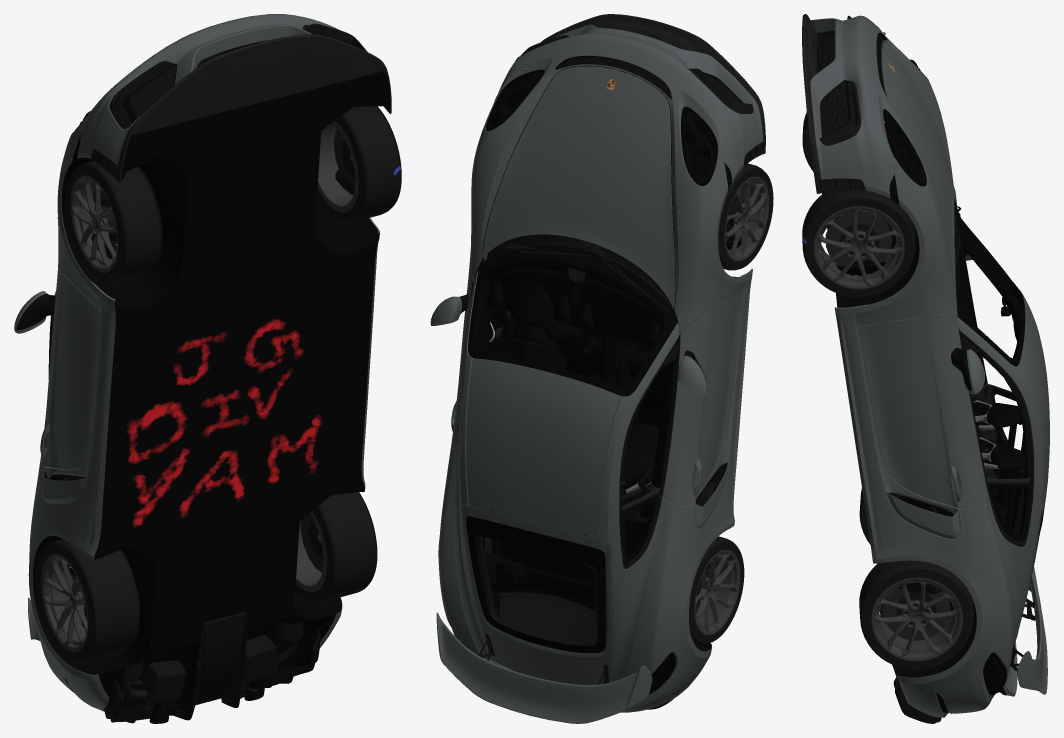
The picture shows the model from 3 angles, left to right: view 1: azimuth 30°, elevation 25°; view 2: azimuth 150°, elevation 25°; view 3: azimuth 270°, elevation 25°; orthographic projection. The views are drawn at different scales.
Visible parts, largest first — view 1: node_id13, node_id64, node_id21, node_id819, node_id1199, node_id3143, node_id303, node_id25, node_id523, node_id1495, node_id2175, node_id1843 (+2 smaller); view 2: node_id64, node_id21, node_id68, node_id41, node_id819, node_id3143, node_id1199, node_id2471, node_id25, node_id13, node_id2815; view 3: node_id64, node_id21, node_id68, node_id139, node_id2171, node_id519, node_id41, node_id13, node_id25, node_id91, node_id1491, node_id1499 (+2 smaller).
Boxes of the visible parts, <box> form: node_id13: <box>32,70,390,716</box>; node_id64: <box>14,14,379,711</box>; node_id21: <box>16,23,391,723</box>; node_id819: <box>70,175,118,272</box>; node_id1199: <box>66,166,123,281</box>; node_id3143: <box>37,544,93,660</box>; node_id303: <box>318,123,352,206</box>; node_id25: <box>129,53,224,117</box>; node_id523: <box>317,117,362,221</box>; node_id1495: <box>300,515,323,572</box>; node_id2175: <box>295,508,332,601</box>; node_id1843: <box>296,521,321,586</box>; node_id64: <box>430,24,762,723</box>; node_id21: <box>457,14,765,709</box>; node_id68: <box>472,259,706,617</box>; node_id41: <box>485,69,731,694</box>; node_id819: <box>724,176,769,261</box>; node_id3143: <box>689,541,744,643</box>; node_id1199: <box>720,168,773,269</box>; node_id2471: <box>694,549,740,635</box>; node_id25: <box>557,57,740,102</box>; node_id13: <box>472,113,736,664</box>; node_id2815: <box>697,556,730,625</box>; node_id64: <box>810,15,1049,717</box>; node_id21: <box>802,14,1044,723</box>; node_id68: <box>881,57,1027,536</box>; node_id139: <box>813,206,904,289</box>; node_id2171: <box>862,569,971,669</box>; node_id519: <box>805,198,913,297</box>; node_id41: <box>851,59,1006,712</box>; node_id13: <box>822,137,1027,694</box>; node_id25: <box>818,32,884,133</box>; node_id91: <box>826,212,891,265</box>; node_id1491: <box>883,588,949,640</box>; node_id1499: <box>871,577,962,661</box>.
Bounding box in the file's own units: 0.512 × 1.12 × 0.3827.
938 materials, 938 textured.
